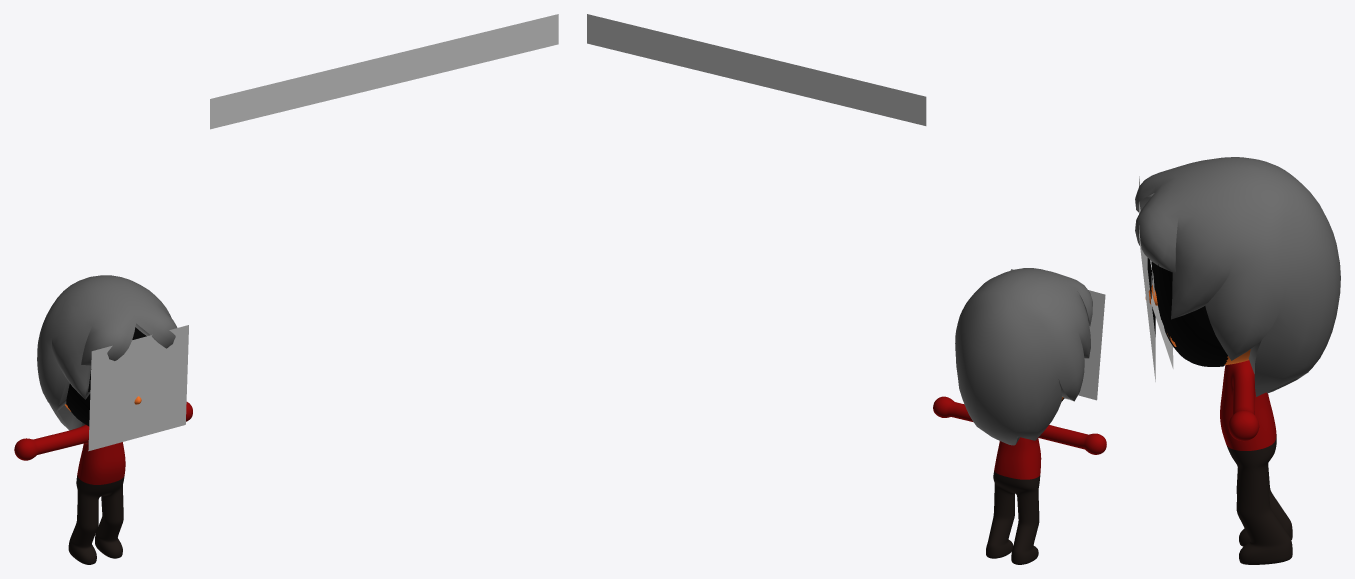
Rendered from mesh_lowpoly1.obj.
3 views of the same model, side by side, from view 1: azimuth 30°, elevation 25°; view 2: azimuth 150°, elevation 25°; view 3: azimuth 270°, elevation 25° (orthographic). The views are drawn at different scales.
Parts seen in each view (by area): view 1: hair_mii_hair, category_selection_selection, hair_mii_glasses, hip, thigh.R, spine.001, thigh.L; view 2: hair_mii_hair, category_selection_selection, hair_mii_glasses, hip, thigh.R, thigh.L; view 3: hair_mii_hair, thigh.L, hair_mii_beard, hip, hair_mii_wrinkle, calf.L, foot.L, hand.L, collar.L, hair_mii_glasses, spine.001, hair_mii_mouth (+4 smaller).
Boxes of the visible parts, x1,y1,x2,y2 form: hair_mii_hair: [37, 275, 177, 430]; category_selection_selection: [210, 14, 558, 129]; hair_mii_glasses: [88, 325, 188, 451]; hip: [76, 454, 125, 494]; thigh.R: [76, 482, 104, 529]; spine.001: [81, 442, 124, 467]; thigh.L: [101, 480, 123, 523]; hair_mii_hair: [955, 268, 1092, 445]; category_selection_selection: [587, 14, 926, 125]; hair_mii_glasses: [1010, 269, 1105, 400]; hip: [993, 449, 1041, 492]; thigh.R: [1012, 480, 1039, 523]; thigh.L: [993, 477, 1014, 518]; hair_mii_hair: [1135, 157, 1340, 396]; thigh.L: [1231, 455, 1270, 515]; hair_mii_beard: [1158, 309, 1228, 366]; hip: [1220, 404, 1276, 459]; hair_mii_wrinkle: [1156, 266, 1206, 341]; calf.L: [1237, 507, 1287, 545]; foot.L: [1239, 534, 1292, 564]; hand.L: [1228, 410, 1259, 441]; collar.L: [1223, 360, 1263, 399]; hair_mii_glasses: [1139, 176, 1155, 381]; spine.001: [1220, 379, 1270, 418]; hair_mii_mouth: [1151, 276, 1173, 368].
Size of the model in its own units: 3.35 by 2.62 by 0.8063.
Materials: 13 (1 with a texture image).
